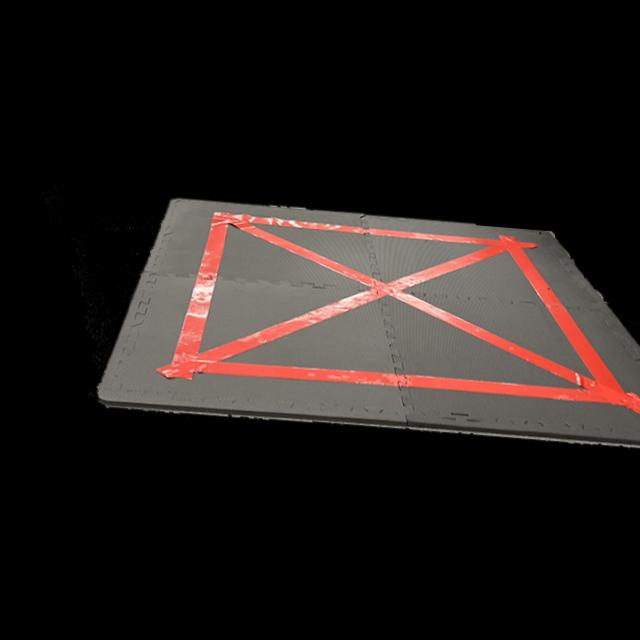landingPads: (42, 188, 640, 446)
